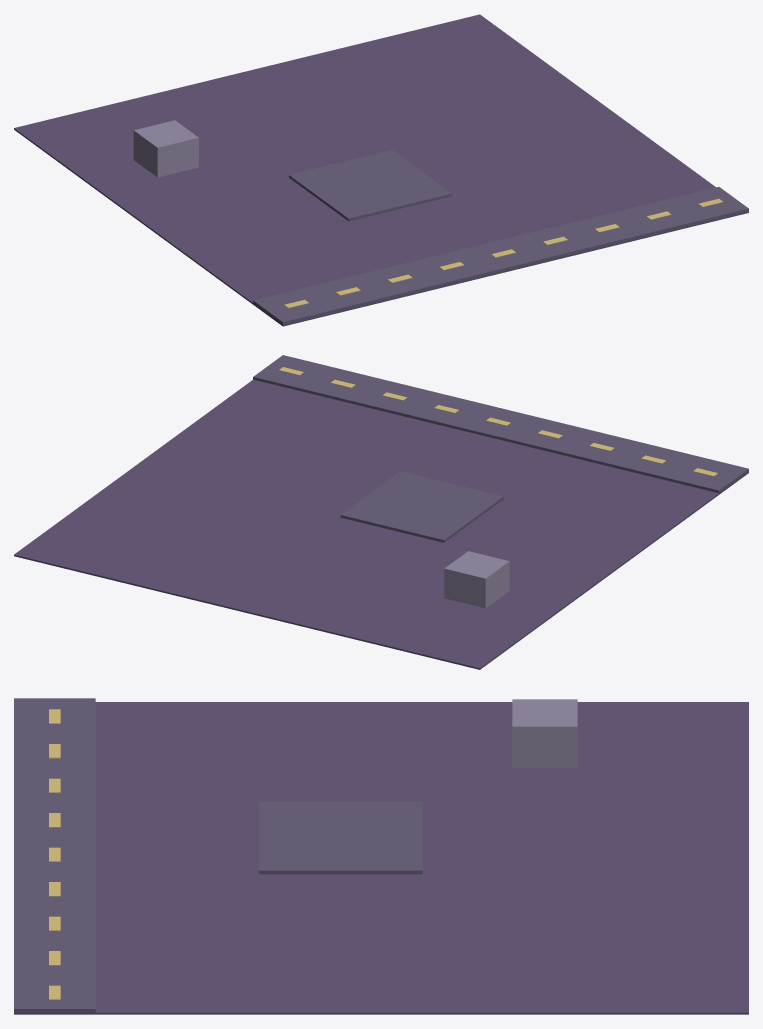
Rendered from stage_02.glb.
The picture shows the model from 3 angles, top to bottom: view 1: azimuth 30°, elevation 25°; view 2: azimuth 150°, elevation 25°; view 3: azimuth 270°, elevation 25°; orthographic projection. The views are drawn at different scales.
Visible parts, largest first — view 1: geometry_0; view 2: geometry_0; view 3: geometry_0.
Part boxes in pixels (box(x1,y1,x2,y2)): geometry_0: box(14, 14, 748, 326); geometry_0: box(14, 355, 748, 669); geometry_0: box(14, 698, 748, 1014).
Size of the model in its own units: 9 by 0.58 by 9.
